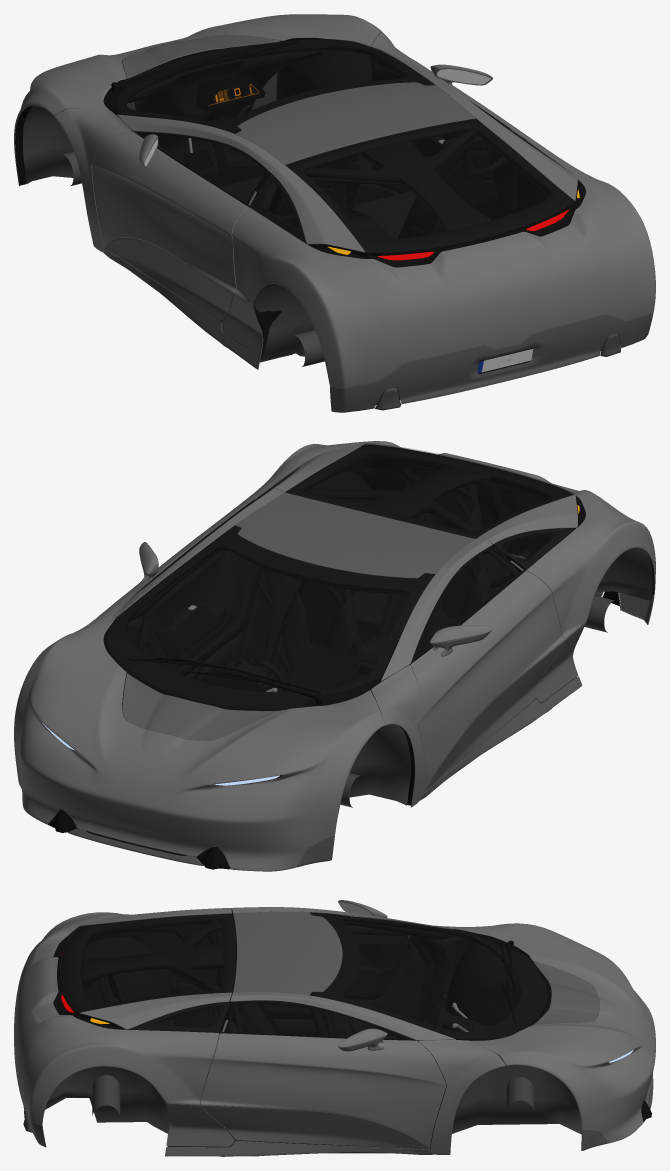
The model's file is Body_Graphite.glb.
3 views of the same model, one above another, from view 1: azimuth 30°, elevation 25°; view 2: azimuth 150°, elevation 25°; view 3: azimuth 270°, elevation 25° (orthographic). The views are drawn at different scales.
Parts seen in each view (by area): view 1: BodyRearPanelsColor1, BodyRearwindow, BodyWindshield, BodyPanelsColor2, BodyDoorLColor1, BodyRoofPanel, BodyHood, InteriorRearHatch, BodyPillars, InteriorPillar, BodyUnderside, InteriorDashMid (+20 smaller); view 2: BodyHood, BodyWindshield, BodyRearwindow, BodyDoorLColor1, BodyRearPanelsColor1, BodyRoofPanel, BodyWindshieldGasket, InteriorSeatsColor2, InteriorSeatsFrame1, BodyPillars, InteriorDoorR01, InteriorPillar (+19 smaller); view 3: BodyWindshield, BodyRearPanelsColor1, BodyDoorRColor1, BodyHood, BodyRearwindow, BodyUnderside, BodyRoofPanel, BodyPillars, BodyWindshieldGasket, InteriorFloor, BodyDoorRColor2, BodyPanelsColor2 (+19 smaller).
Part boxes in pixels (<box>): BodyRearPanelsColor1: <box>232,115,655,388</box>; BodyRearwindow: <box>285,118,574,252</box>; BodyWindshield: <box>118,39,434,133</box>; BodyPanelsColor2: <box>15,160,653,412</box>; BodyDoorLColor1: <box>91,131,249,293</box>; BodyRoofPanel: <box>236,82,475,164</box>; BodyHood: <box>14,14,383,159</box>; InteriorRearHatch: <box>272,119,574,257</box>; BodyPillars: <box>54,32,490,252</box>; InteriorPillar: <box>241,120,491,231</box>; BodyUnderside: <box>23,105,620,410</box>; InteriorDashMid: <box>126,47,329,166</box>; BodyHood: <box>14,626,384,871</box>; BodyWindshield: <box>107,525,434,708</box>; BodyRearwindow: <box>286,443,574,538</box>; BodyDoorLColor1: <box>411,570,564,791</box>; BodyRearPanelsColor1: <box>238,441,655,638</box>; BodyRoofPanel: <box>235,492,475,578</box>; BodyWindshieldGasket: <box>103,526,434,710</box>; InteriorSeatsColor2: <box>195,505,488,692</box>; InteriorSeatsFrame1: <box>230,484,491,778</box>; BodyPillars: <box>68,488,492,807</box>; InteriorDoorR01: <box>140,506,259,676</box>; InteriorPillar: <box>233,464,511,596</box>; BodyWindshield: <box>310,912,546,1038</box>; BodyRearPanelsColor1: <box>14,908,231,1124</box>; BodyDoorRColor1: <box>200,1033,446,1149</box>; BodyHood: <box>472,923,655,1143</box>; BodyRearwindow: <box>60,913,235,1012</box>; BodyUnderside: <box>23,1063,581,1134</box>; BodyRoofPanel: <box>233,911,342,995</box>; BodyPillars: <box>230,907,505,1154</box>; BodyWindshieldGasket: <box>310,913,551,1040</box>; InteriorFloor: <box>81,936,650,1153</box>; BodyDoorRColor2: <box>200,1105,428,1149</box>; BodyPanelsColor2: <box>14,1054,653,1156</box>.
Bounding box in the file's own units: 2.34 × 1.06 × 4.36.
Materials: 16 (2 with a texture image).
